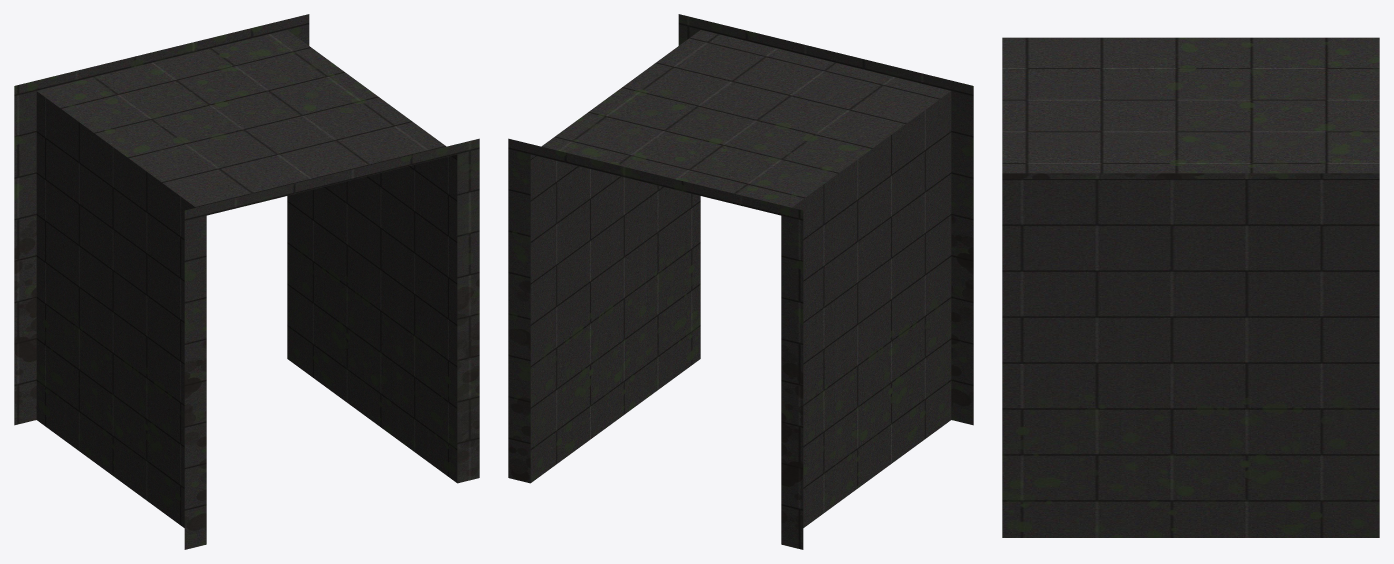
Rendered from InnerTunnel.fbx.
3 views of the same model, side by side, from view 1: azimuth 30°, elevation 25°; view 2: azimuth 150°, elevation 25°; view 3: azimuth 270°, elevation 25° (orthographic). The views are drawn at different scales.
Visible parts, largest first — view 1: Tunnel.001; view 2: Tunnel.001; view 3: Tunnel.001.
Boxes of the visible parts, x1,y1,x2,y2 form: Tunnel.001: (14, 14, 479, 549); Tunnel.001: (508, 14, 973, 549); Tunnel.001: (1002, 37, 1379, 537).
Size of the model in its own units: 1000 by 1100 by 1000.
